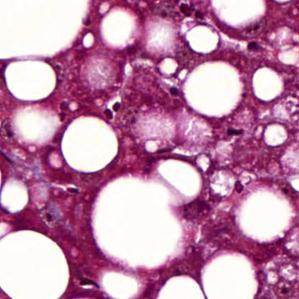steatosis: (0, 229, 70, 298), (62, 115, 119, 173)
